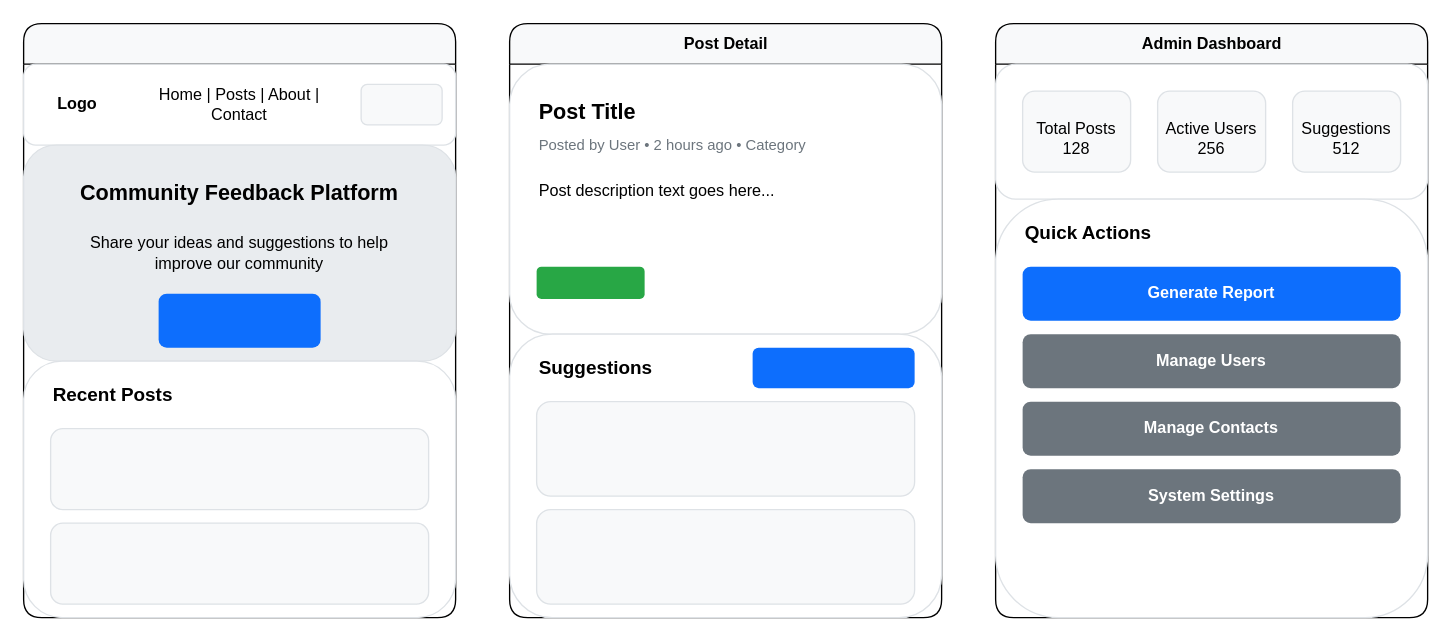
The diagram is 1451 pixels wide and 641 high, and some of its shapes have lost their labels. The box of each missing label's shape, as (x1, y1, x2, y2) in pixels:
Add Suggestion: (752, 347, 914, 387)
Create Post: (158, 293, 320, 347)
Home Page: (22, 22, 456, 618)
Status: Open: (536, 266, 644, 298)
User ▼: (360, 83, 442, 125)
